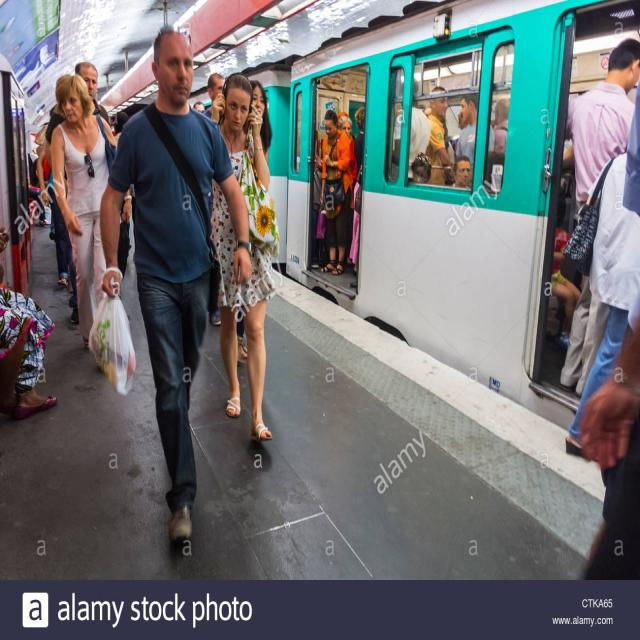body: (87, 23, 254, 547), (557, 37, 640, 400), (205, 70, 281, 442), (563, 150, 639, 460), (49, 70, 132, 353), (577, 276, 640, 588), (42, 60, 113, 326), (223, 74, 271, 363), (0, 221, 58, 418), (542, 122, 576, 346), (318, 105, 354, 277), (455, 93, 496, 189), (390, 92, 432, 182), (620, 42, 640, 226), (21, 121, 49, 228), (424, 85, 452, 186), (336, 115, 358, 207), (310, 120, 325, 212), (201, 72, 227, 122), (489, 96, 509, 155), (352, 105, 367, 173), (448, 109, 468, 152), (410, 150, 433, 184), (451, 155, 472, 189), (110, 109, 130, 137), (191, 94, 206, 120)
